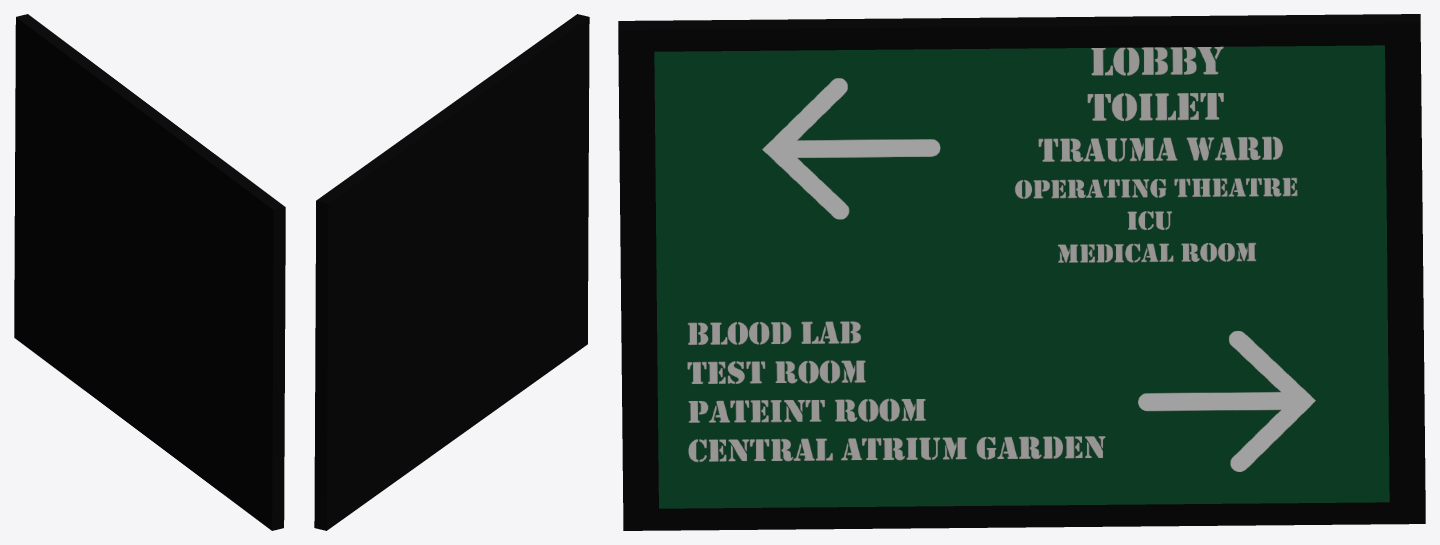
File: SIGNBOARD 1 .fbx
The picture shows the model from 3 angles, left to right: view 1: azimuth 30°, elevation 25°; view 2: azimuth 150°, elevation 25°; view 3: azimuth 270°, elevation 25°; orthographic projection. The views are drawn at different scales.
Parts seen in each view (by area): view 1: Cube.001; view 2: Cube.001; view 3: Cube.001.
Boxes of the visible parts, bbox=[...] form: Cube.001: bbox=[14, 14, 285, 530]; Cube.001: bbox=[314, 14, 589, 530]; Cube.001: bbox=[618, 14, 1425, 530].
Bounding box in the file's own units: 17.62 × 457 × 658.
Materials: 2 (1 with a texture image).
